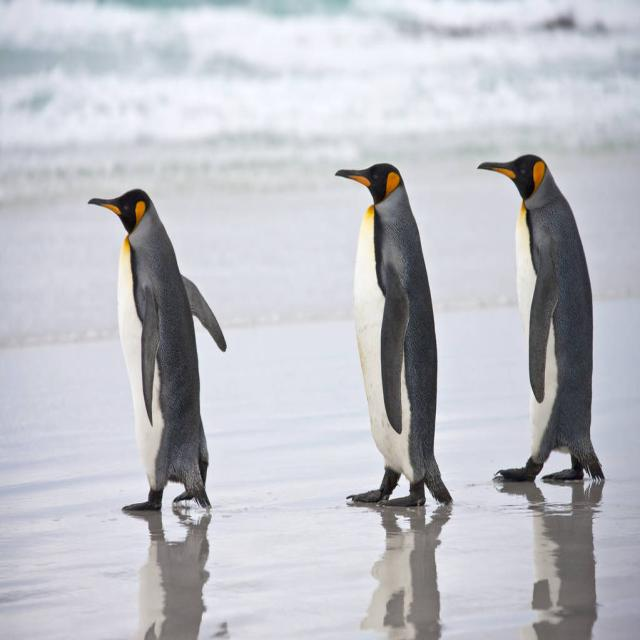Penguins: (473, 134, 619, 499), (82, 180, 225, 534), (334, 156, 441, 520)
